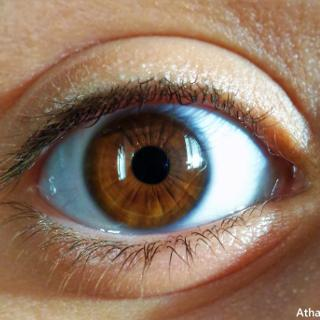pupil: (132, 146, 170, 184)
